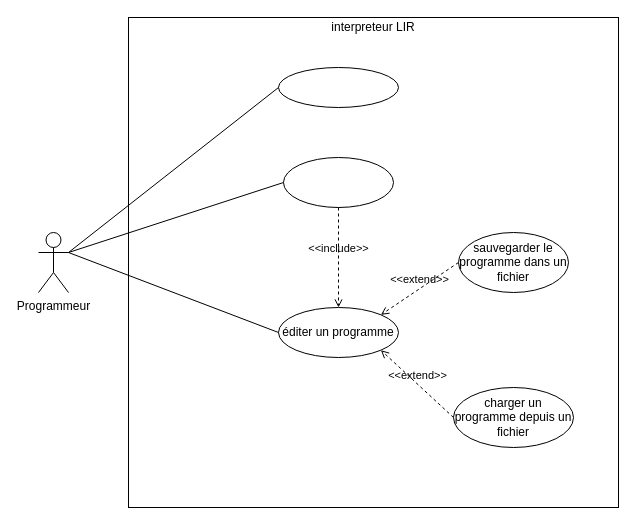
The diagram is 636 pixels wide and 525 high, and some of its shapes have lost their labels. Each missing label, with the centre of its shape:
"executer une commande" belongs at point (338, 87).
"exécuter un programme" belongs at point (338, 182).
